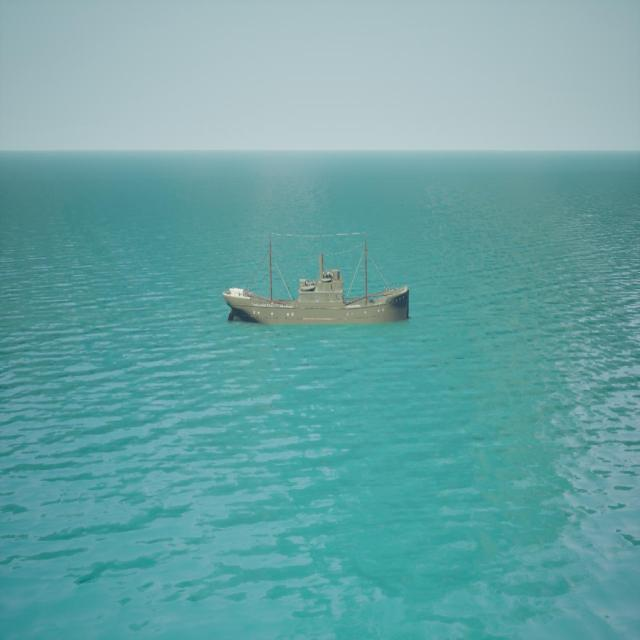fishing ship: (225, 232, 411, 329)
